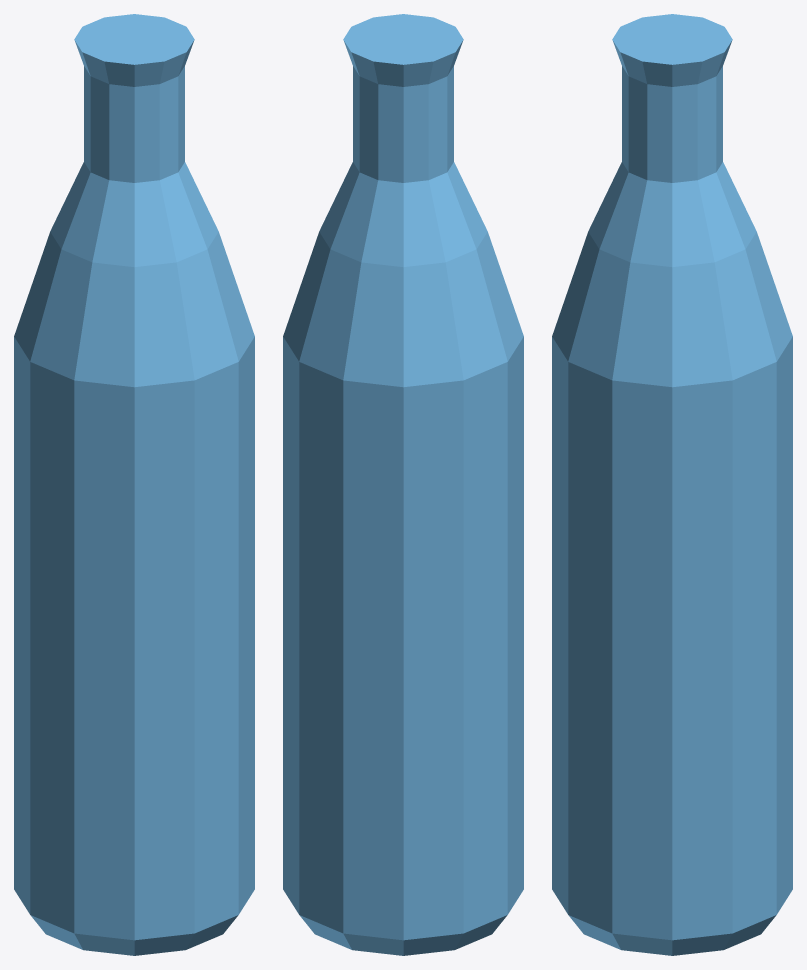
Rendered from bottle_2l.fbx.
The picture shows the model from 3 angles, left to right: view 1: azimuth 30°, elevation 25°; view 2: azimuth 150°, elevation 25°; view 3: azimuth 270°, elevation 25°; orthographic projection.
Visible parts, largest first — view 1: bottle_2l; view 2: bottle_2l; view 3: bottle_2l.
Boxes of the visible parts, x1,y1,x2,y2 form: bottle_2l: [14, 14, 254, 955]; bottle_2l: [283, 14, 523, 955]; bottle_2l: [552, 14, 792, 955].
Bounding box in the file's own units: 0.0375 × 0.15 × 0.0375.
